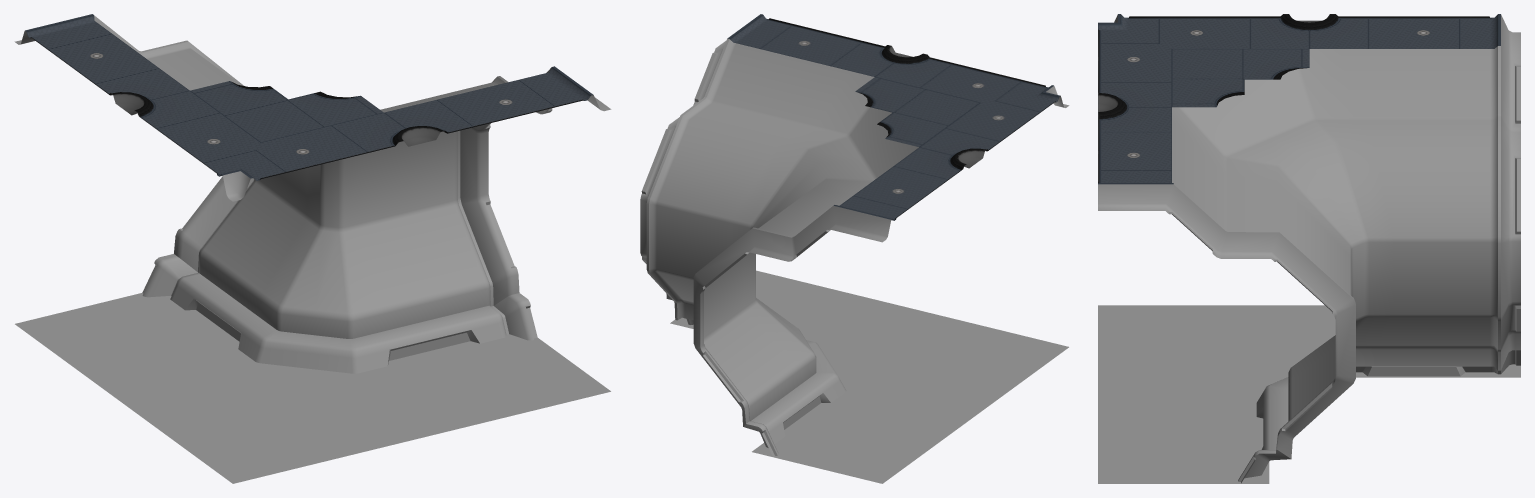
The model's file is Corr_A_corner_inner.fbx.
The picture shows the model from 3 angles, left to right: view 1: azimuth 30°, elevation 25°; view 2: azimuth 150°, elevation 25°; view 3: azimuth 270°, elevation 25°; orthographic projection. The views are drawn at different scales.
Parts seen in each view (by area): view 1: Corr_A_corner_inner; view 2: Corr_A_corner_inner; view 3: Corr_A_corner_inner.
Part boxes in pixels (x1,y1,x2,y2): Corr_A_corner_inner: (14,14,611,483); Corr_A_corner_inner: (640,14,1069,483); Corr_A_corner_inner: (1098,14,1520,483).
Size of the model in its own units: 400 by 304 by 400.
Materials: 5 (1 with a texture image).
